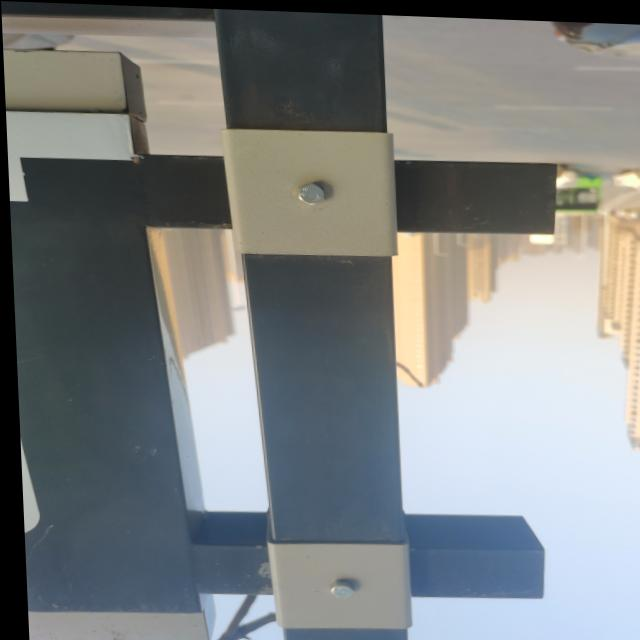Regular bolt: (296, 179, 323, 204), (323, 578, 350, 597)
